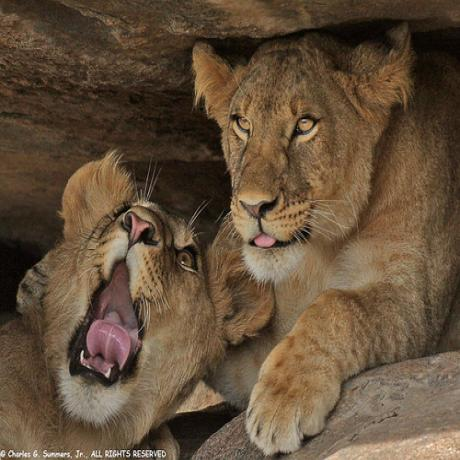Lion: (192, 21, 460, 460), (0, 161, 246, 460)
